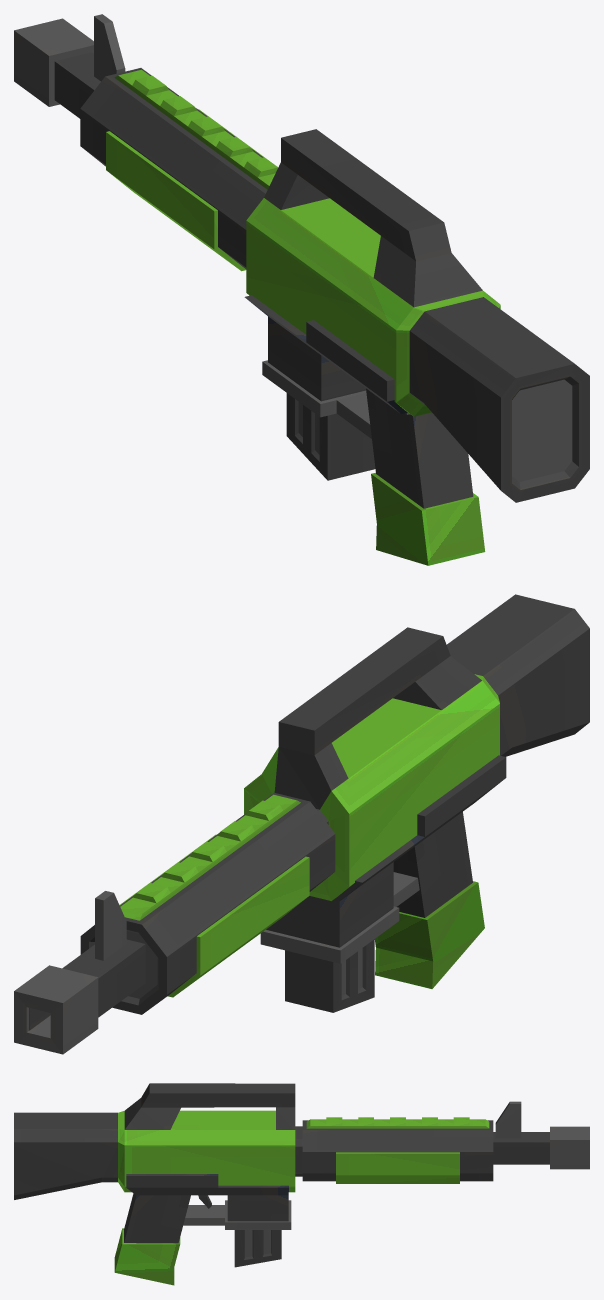
File: smg_4.glb
3 renders of one model, top to bottom at view 1: azimuth 30°, elevation 25°; view 2: azimuth 150°, elevation 25°; view 3: azimuth 270°, elevation 25°, orthographic. The views are drawn at different scales.
Parts seen in each view (by area): view 1: subfusil_4_texture_0; view 2: subfusil_4_texture_0; view 3: subfusil_4_texture_0.
Part boxes in pixels (x1,y1,x2,y2): subfusil_4_texture_0: [14, 14, 589, 565]; subfusil_4_texture_0: [14, 594, 589, 1054]; subfusil_4_texture_0: [14, 1083, 589, 1285].
Bounding box in the file's own units: 0.0898 × 0.2389 × 0.6584.
Materials: 1 (1 with a texture image).
